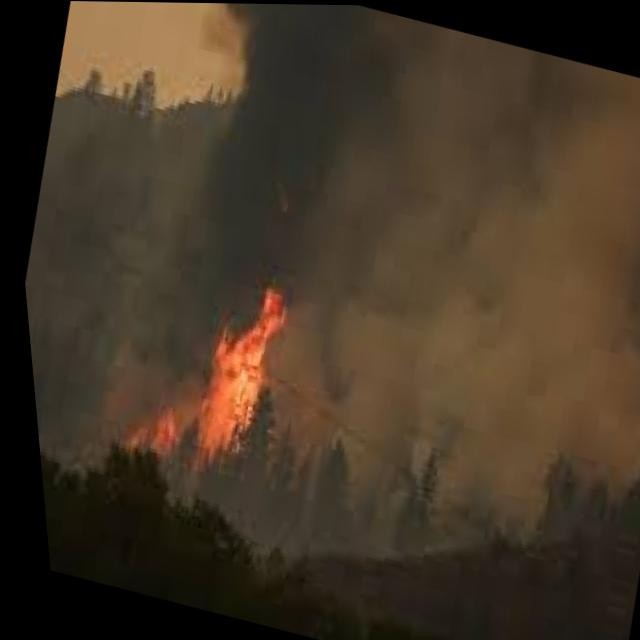Fire: (78, 232, 313, 528)
